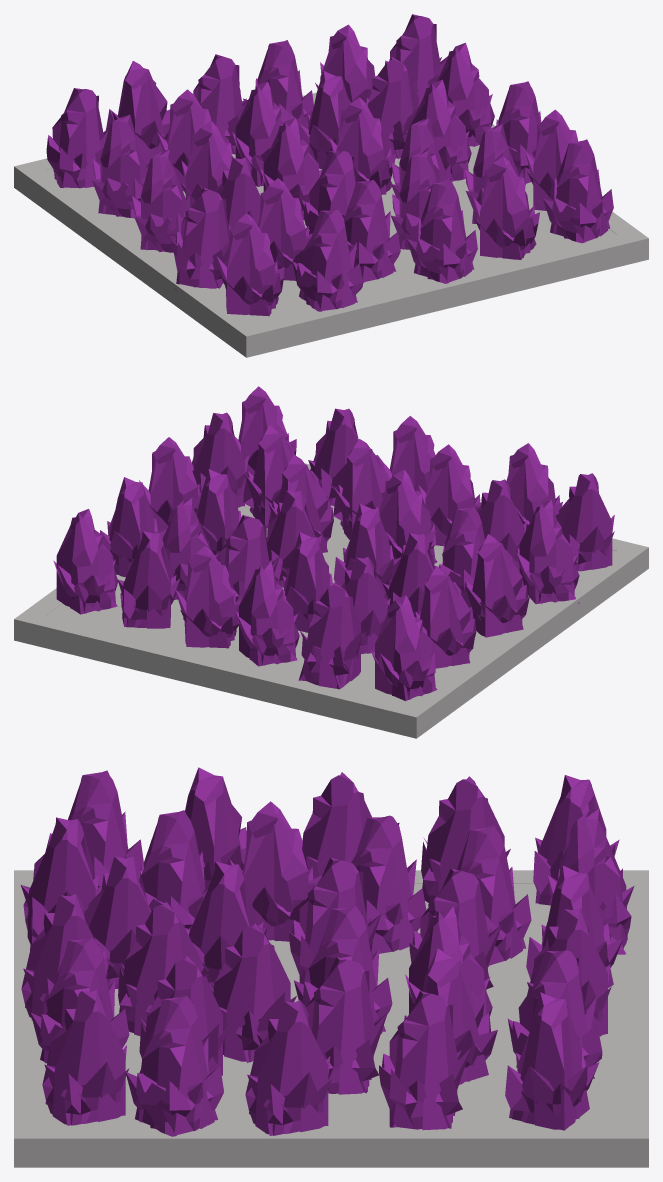
Rendered from Spike Hazard.fbx.
3 views of the same model, one above another, from view 1: azimuth 30°, elevation 25°; view 2: azimuth 150°, elevation 25°; view 3: azimuth 270°, elevation 25° (orthographic). The views are drawn at different scales.
Visible parts, largest first — view 1: Base, Spike pt1.026, Spike pt1.008, Spike pt1.005, Spike pt1.024, Spike pt1.013, Spike pt1.012, Spike pt1.020, Spike pt1.029, Spike pt1.025, Spike pt1.028, Spike pt1 (+21 smaller); view 2: Base, Spike pt1.002, Spike pt1.020, Spike pt1.003, Spike pt1.018, Spike pt1.019, Spike pt1.028, Spike pt1.012, Spike pt1.017, Spike pt1.029, Spike pt1.013, Spike pt1.025 (+21 smaller); view 3: Base, Spike pt1.023, Spike pt1.004, Spike pt1.005, Spike pt1.021, Spike pt1.003, Spike pt1.022, Spike pt1.011, Spike pt1.027, Spike pt1.001, Spike pt1.010, Spike pt1.031 (+21 smaller).
Boxes of the visible parts, left/top/right/bottom form: Base: left=14, top=92, right=648, bottom=357; Spike pt1.026: left=292, top=209, right=363, bottom=311; Spike pt1.008: left=407, top=180, right=477, bottom=283; Spike pt1.005: left=543, top=139, right=613, bottom=243; Spike pt1.024: left=473, top=156, right=539, bottom=259; Spike pt1.013: left=217, top=213, right=284, bottom=316; Spike pt1.012: left=171, top=187, right=229, bottom=290; Spike pt1.020: left=46, top=88, right=108, bottom=188; Spike pt1.029: left=92, top=114, right=148, bottom=218; Spike pt1.025: left=343, top=180, right=400, bottom=282; Spike pt1.028: left=132, top=149, right=189, bottom=252; Spike pt1: left=330, top=97, right=395, bottom=194; Base: left=14, top=463, right=648, bottom=738; Spike pt1.002: left=298, top=582, right=366, bottom=689; Spike pt1.020: left=370, top=595, right=437, bottom=700; Spike pt1.003: left=53, top=509, right=118, bottom=614; Spike pt1.018: left=236, top=561, right=299, bottom=666; Spike pt1.019: left=175, top=546, right=241, bottom=648; Spike pt1.028: left=462, top=534, right=529, bottom=637; Spike pt1.012: left=517, top=499, right=579, bottom=604; Spike pt1.017: left=117, top=531, right=180, bottom=628; Spike pt1.029: left=414, top=566, right=476, bottom=668; Spike pt1.013: left=557, top=473, right=614, bottom=571; Spike pt1.025: left=418, top=444, right=481, bottom=545; Base: left=14, top=870, right=648, bottom=1167; Spike pt1.023: left=125, top=995, right=223, bottom=1136; Spike pt1.004: left=379, top=991, right=471, bottom=1130; Spike pt1.005: left=42, top=989, right=129, bottom=1125; Spike pt1.021: left=245, top=1000, right=331, bottom=1135; Spike pt1.003: left=505, top=992, right=599, bottom=1130; Spike pt1.022: left=306, top=957, right=387, bottom=1094; Spike pt1.011: left=210, top=923, right=296, bottom=1062; Spike pt1.027: left=229, top=801, right=322, bottom=941; Spike pt1.001: left=351, top=815, right=426, bottom=955; Spike pt1.010: left=118, top=902, right=207, bottom=1036; Spike pt1.031: left=141, top=810, right=208, bottom=929.
Bounding box in the file's own units: 201 × 55.02 × 200.
